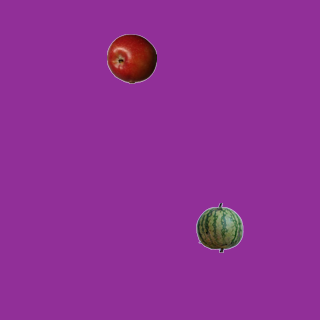Apple Braeburn: (106, 33, 156, 83)
Watermelon: (194, 202, 244, 252)
